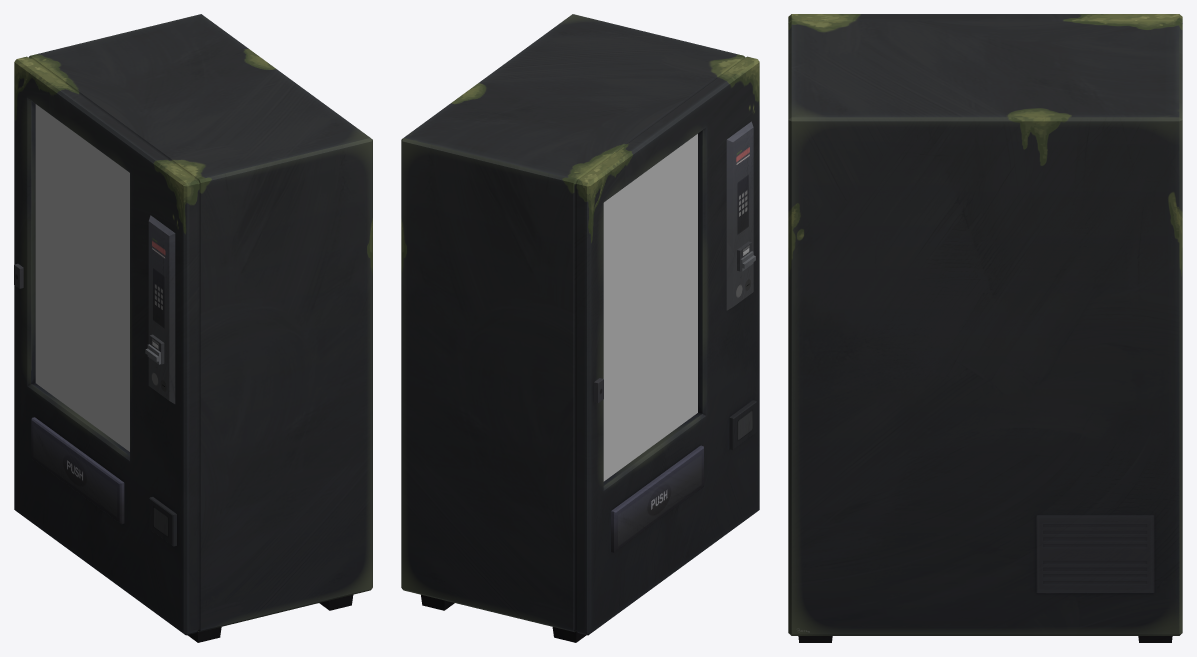
Rendered from Mesh_VendingMachine_03.fbx.
3 renders of one model, left to right at view 1: azimuth 30°, elevation 25°; view 2: azimuth 150°, elevation 25°; view 3: azimuth 270°, elevation 25°, orthographic. The views are drawn at different scales.
Visible parts, largest first — view 1: CM_Case.003, Glas; view 2: CM_Case.003, Glas; view 3: CM_Case.003.
Boxes of the visible parts, x1=… form: CM_Case.003: x1=14, y1=14, x2=372, y2=642; Glas: x1=35, y1=104, x2=129, y2=451; CM_Case.003: x1=401, y1=14, x2=759, y2=642; Glas: x1=603, y1=134, x2=697, y2=481; CM_Case.003: x1=788, y1=14, x2=1182, y2=642.
Bounding box in the file's own units: 85.95 × 191 × 127.
